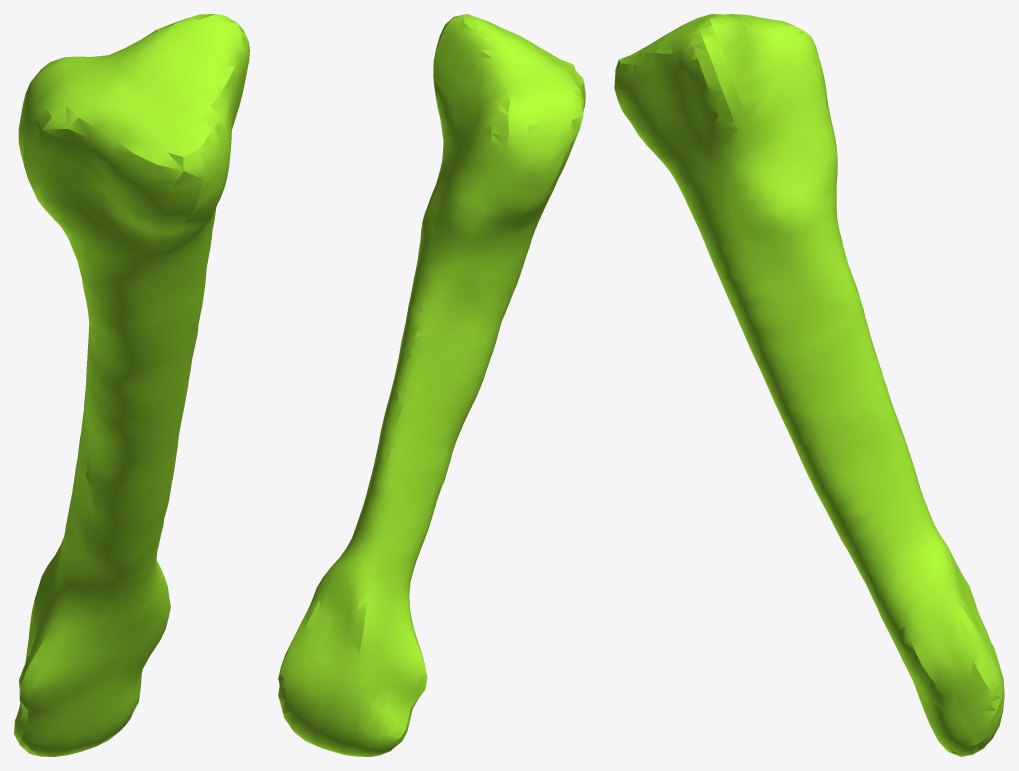
Rendered from Metatarsal_3.obj.
The picture shows the model from 3 angles, left to right: view 1: azimuth 30°, elevation 25°; view 2: azimuth 150°, elevation 25°; view 3: azimuth 270°, elevation 25°; orthographic projection. The views are drawn at different scales.
Parts seen in each view (by area): view 1: Object_0Metatarsal_3; view 2: Object_0Metatarsal_3; view 3: Object_0Metatarsal_3.
Boxes of the visible parts, x1,y1,x2,y2 form: Object_0Metatarsal_3: (14, 14, 249, 756); Object_0Metatarsal_3: (278, 14, 585, 756); Object_0Metatarsal_3: (614, 14, 1004, 756).
Bounding box in the file's own units: 22.75 × 76.48 × 37.57.
